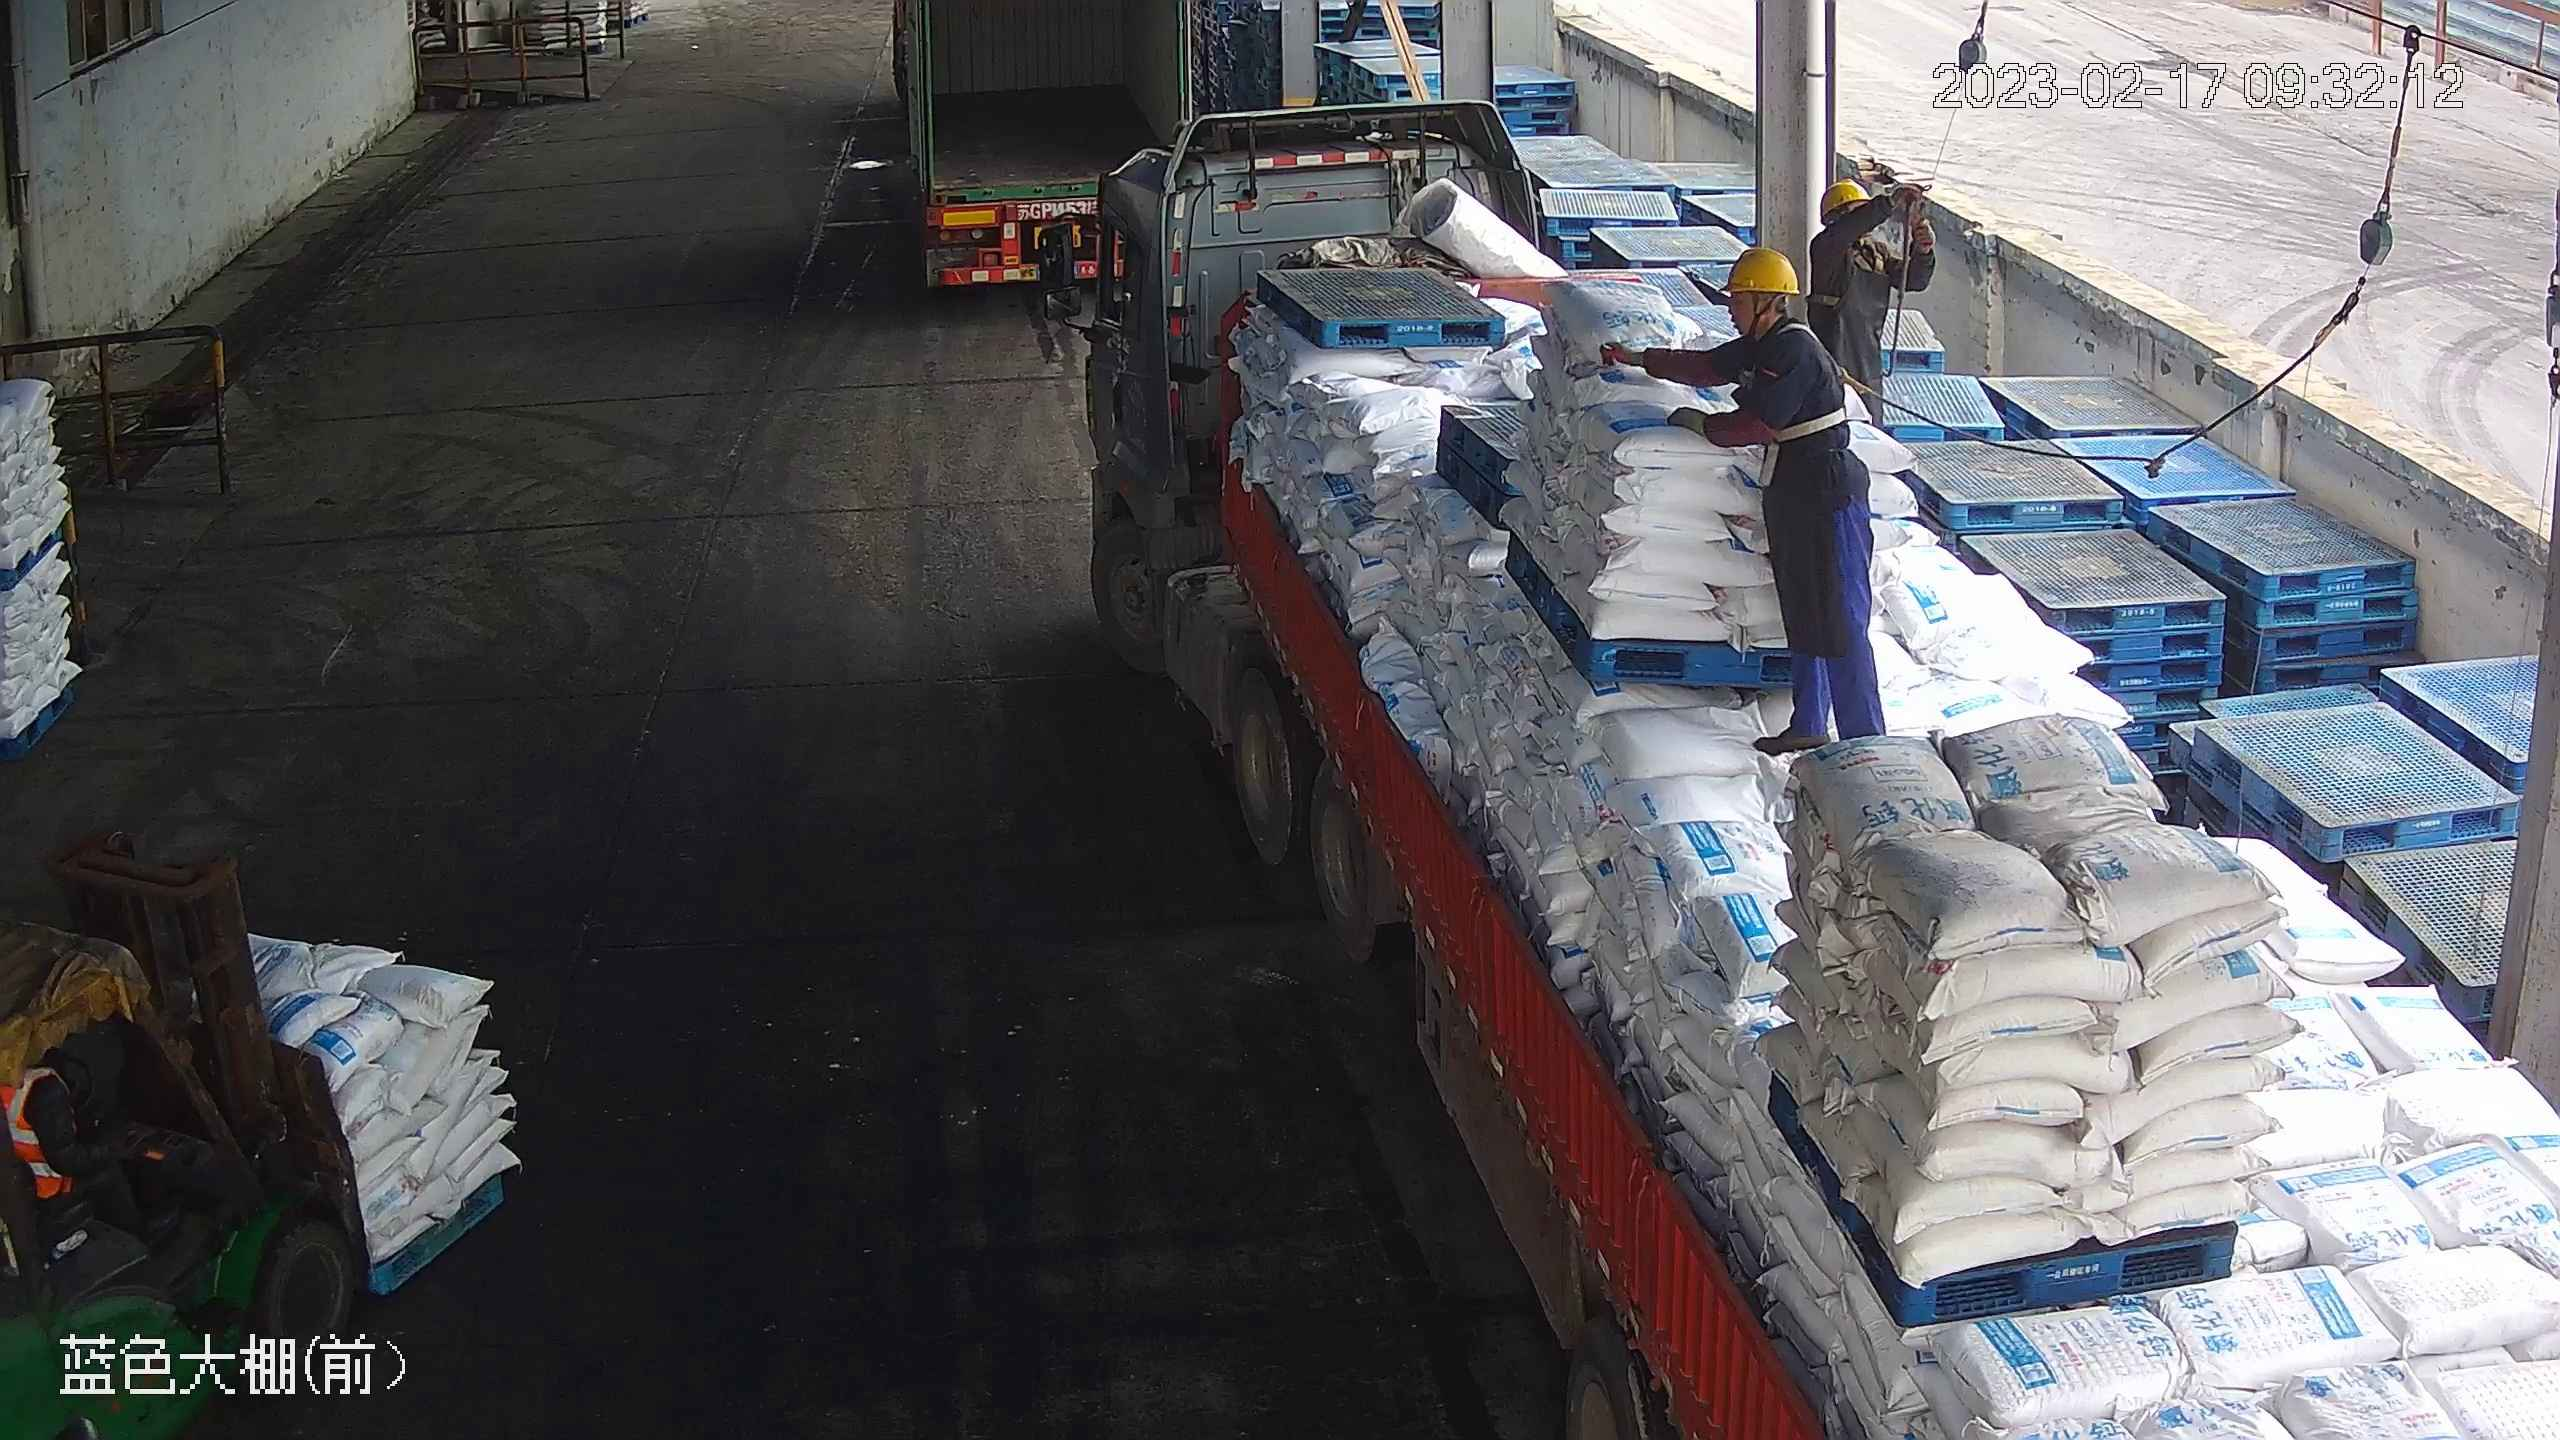belt: (1758, 320, 1862, 440), (1815, 239, 1876, 299)
head: (1705, 246, 1837, 382), (1810, 178, 1892, 256)
helmet: (1719, 244, 1800, 299), (1819, 176, 1870, 214)
people: (1591, 249, 1884, 755), (1805, 176, 1917, 425)
truck: (1038, 89, 2560, 1440), (882, 1, 1194, 292)
